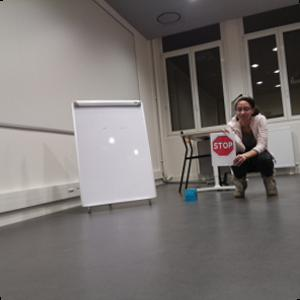stop: (211, 135, 235, 157)
